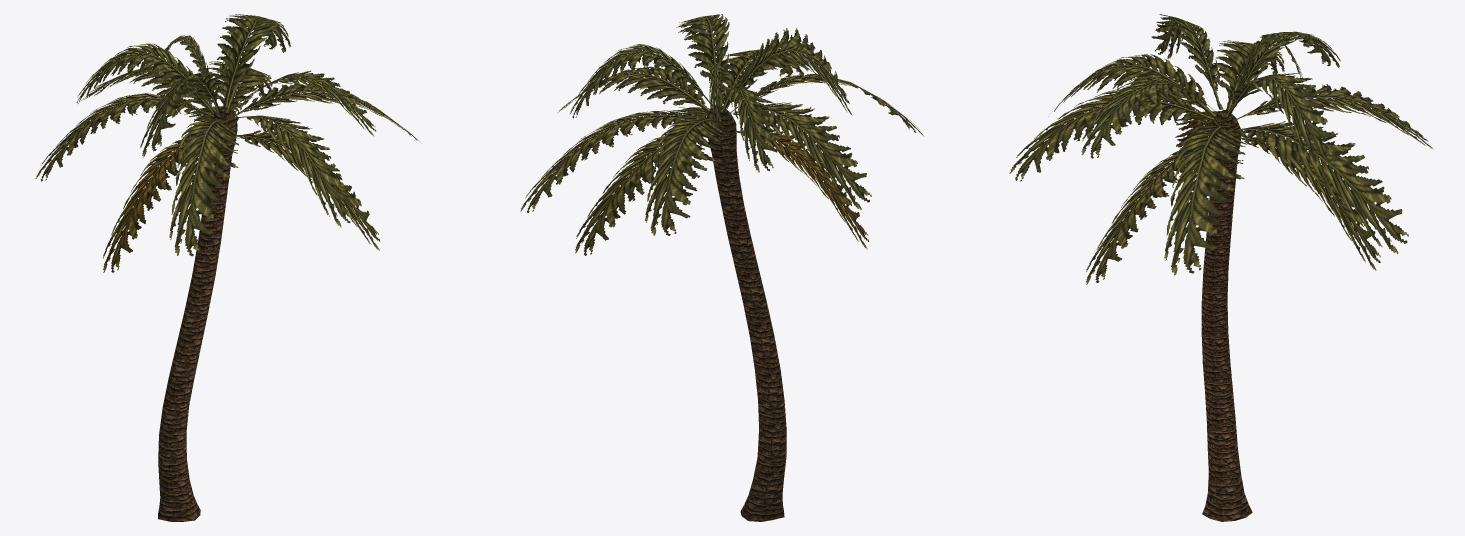
File: Palmeira_Curva.glb
3 renders of one model, left to right at view 1: azimuth 30°, elevation 25°; view 2: azimuth 150°, elevation 25°; view 3: azimuth 270°, elevation 25°, orthographic. The views are drawn at different scales.
Visible parts, largest first — view 1: Folhas abertas, Folhas novas, Caule, Folhas inferiores, Bainhas da copa; view 2: Folhas abertas, Folhas novas, Caule, Folhas inferiores, Bainhas da copa; view 3: Folhas abertas, Folhas novas, Caule, Folhas inferiores, Bainhas da copa.
Boxes of the visible parts, x1=… form: Folhas abertas: x1=35, y1=61, x2=420, y2=256; Folhas novas: x1=76, y1=14, x2=375, y2=157; Caule: x1=158, y1=156, x2=231, y2=521; Folhas inferiores: x1=103, y1=106, x2=379, y2=272; Bainhas da copa: x1=207, y1=107, x2=237, y2=158; Folhas abertas: x1=520, y1=49, x2=923, y2=235; Folhas novas: x1=569, y1=14, x2=852, y2=172; Caule: x1=711, y1=150, x2=786, y2=521; Folhas inferiores: x1=575, y1=107, x2=868, y2=255; Bainhas da copa: x1=706, y1=105, x2=736, y2=156; Folhas abertas: x1=1009, y1=40, x2=1432, y2=275; Folhas novas: x1=1081, y1=14, x2=1340, y2=168; Caule: x1=1201, y1=157, x2=1252, y2=521; Folhas inferiores: x1=1086, y1=111, x2=1380, y2=284; Bainhas da copa: x1=1209, y1=110, x2=1241, y2=162.
Bounding box in the file's own units: 7.81 × 9.47 × 7.93.
Materials: 2 (2 with a texture image).
